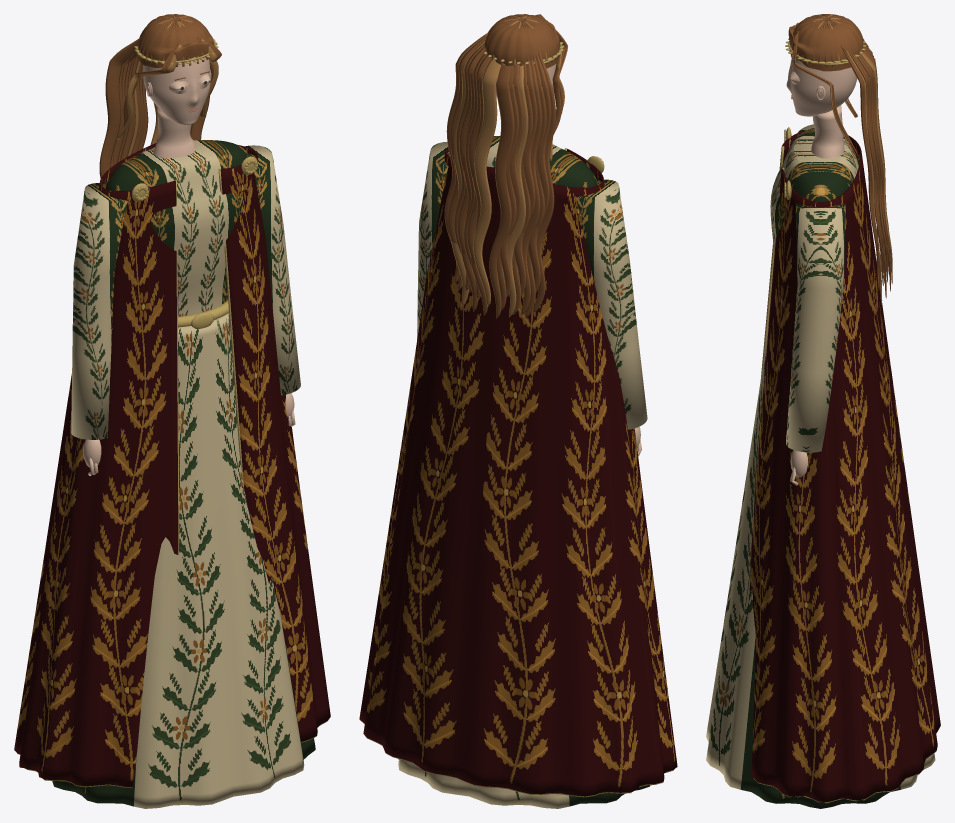
File: princess-v15-standing.glb
The picture shows the model from 3 angles, left to right: view 1: azimuth 30°, elevation 25°; view 2: azimuth 150°, elevation 25°; view 3: azimuth 270°, elevation 25°; orthographic projection.
Parts seen in each view (by area): view 1: cape_surface, MorrisPrincess_surface, body_surface, head_surface, armL_surface, armR_surface; view 2: cape_surface, head_surface, armL_surface, MorrisPrincess_surface, armR_surface, body_surface; view 3: cape_surface, MorrisPrincess_surface, armR_surface, head_surface, body_surface.
Boxes of the visible parts, bbox=[...] form: cape_surface: bbox=[14, 143, 330, 787]; MorrisPrincess_surface: bbox=[52, 313, 315, 808]; body_surface: bbox=[105, 108, 257, 328]; head_surface: bbox=[99, 14, 221, 178]; armL_surface: bbox=[71, 183, 127, 475]; armR_surface: bbox=[245, 145, 300, 426]; cape_surface: bbox=[359, 147, 677, 797]; head_surface: bbox=[444, 14, 567, 318]; armL_surface: bbox=[576, 179, 647, 456]; MorrisPrincess_surface: bbox=[398, 759, 650, 808]; armR_surface: bbox=[417, 142, 449, 339]; body_surface: bbox=[486, 136, 604, 187]; cape_surface: bbox=[749, 130, 940, 803]; MorrisPrincess_surface: bbox=[706, 326, 935, 808]; armR_surface: bbox=[786, 203, 845, 485]; head_surface: bbox=[785, 14, 892, 304]; body_surface: bbox=[770, 105, 858, 299].
Bounding box in the file's own units: 0.6912 × 1.66 × 0.4759.
Materials: 12 (2 with a texture image).
